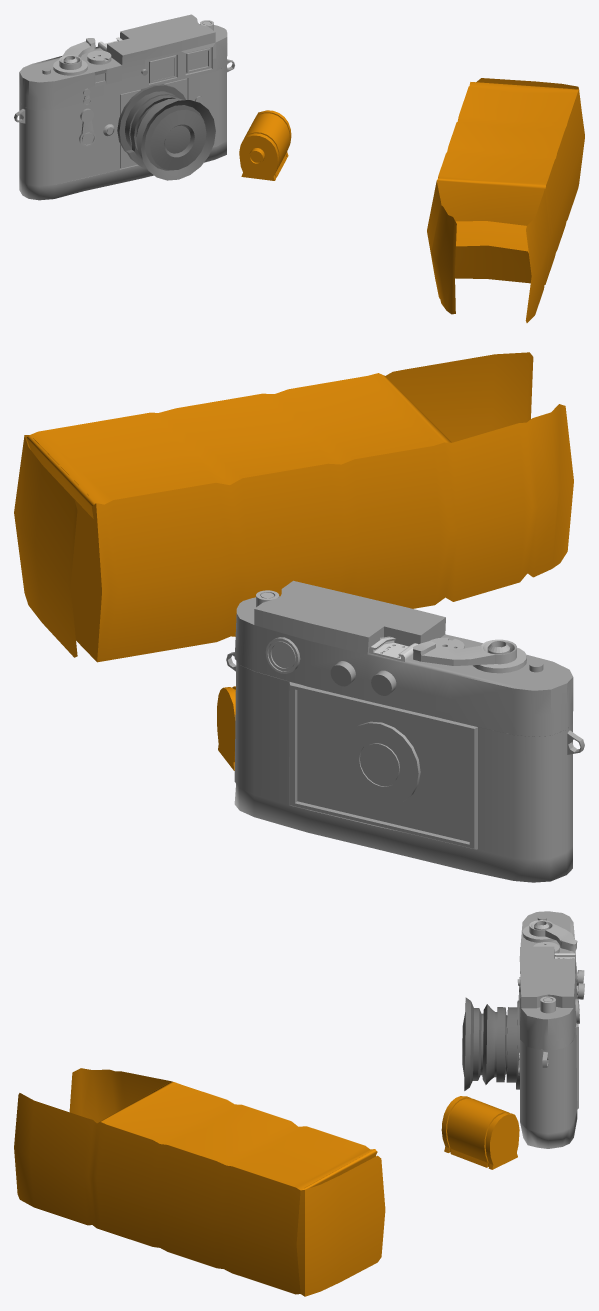
The model's file is disisacamera.fbx.
3 renders of one model, top to bottom at view 1: azimuth 30°, elevation 25°; view 2: azimuth 150°, elevation 25°; view 3: azimuth 270°, elevation 25°, orthographic. The views are drawn at different scales.
Parts seen in each view (by area): view 1: pPlane1, pCube7, pCube4, pCylinder4, pCylinder5, pCube6, pCylinder8; view 2: pPlane1, pCube4, pCube7, pCube6, pCylinder21, pCylinder8, pCylinder5, pCylinder13, pCube8; view 3: pPlane1, pCube7, pCube4, pCylinder4, pCylinder5, pCylinder8, pCube6.
Boxes of the visible parts, x1,y1,x2,y2 form: pPlane1: (427,78,584,322); pCube7: (19,14,227,110); pCube4: (19,65,226,186); pCylinder4: (117,84,215,180); pCylinder5: (239,110,291,180); pCube6: (19,141,226,200); pCylinder8: (53,38,95,75); pPlane1: (14,352,573,662); pCube4: (234,661,572,859); pCube7: (234,580,573,736); pCube6: (234,784,572,882); pCylinder21: (342,721,420,805); pCylinder8: (413,639,526,673); pCylinder5: (217,686,235,770); pCylinder13: (265,637,300,673); pCube8: (369,636,418,661); pPlane1: (14,1068,385,1296); pCube7: (519,911,576,1050); pCube4: (520,966,578,1133); pCylinder4: (462,997,519,1090); pCylinder5: (441,1096,519,1169); pCylinder8: (522,920,577,951); pCube6: (520,1041,577,1148).
Size of the model in its own units: 16.3 by 4.95 by 15.95.
